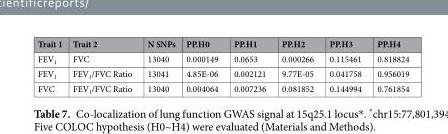table: (36, 37, 408, 94)
table column: (66, 37, 139, 94), (225, 37, 273, 94), (320, 37, 368, 94), (273, 37, 320, 94), (180, 37, 225, 94), (139, 37, 180, 94), (368, 37, 408, 94), (36, 37, 66, 94)
table column header: (36, 37, 408, 50)
table row: (36, 50, 408, 66), (36, 66, 408, 81), (36, 37, 408, 50), (36, 81, 408, 94)
